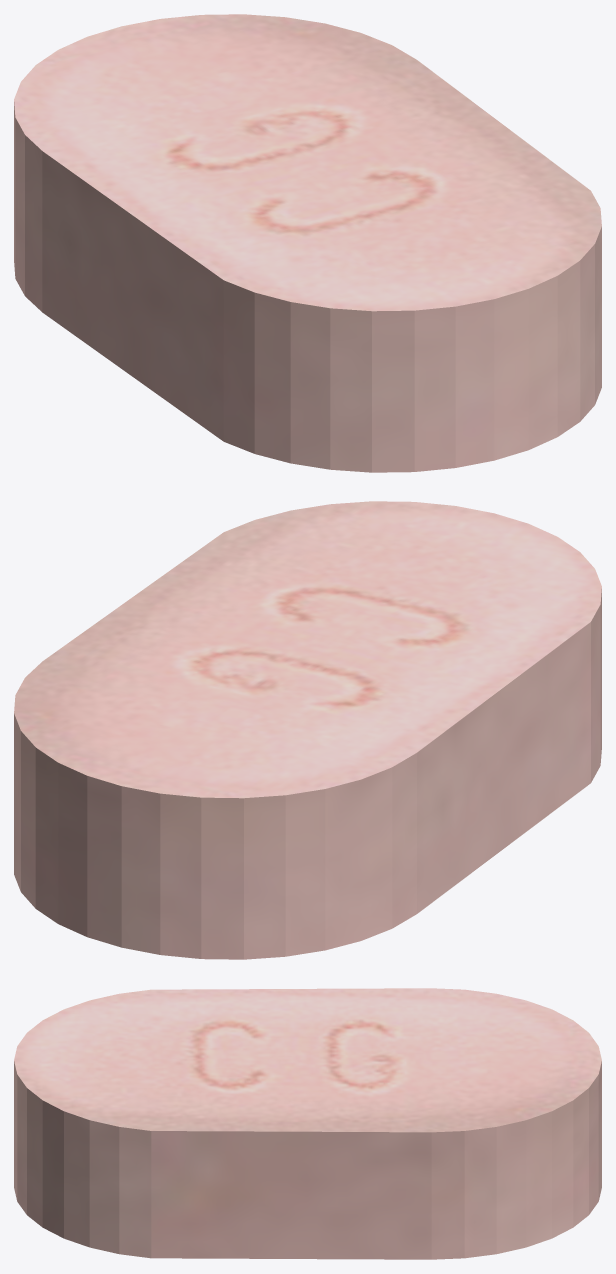
3 views of the same model, one above another, from view 1: azimuth 30°, elevation 25°; view 2: azimuth 150°, elevation 25°; view 3: azimuth 270°, elevation 25° (orthographic). The views are drawn at different scales.
Visible parts, largest first — view 1: 圓柱體; view 2: 圓柱體; view 3: 圓柱體.
Part boxes in pixels (x1,y1,x2,y2): 圓柱體: (14, 14, 601, 472); 圓柱體: (14, 501, 601, 959); 圓柱體: (14, 988, 601, 1259).
Size of the model in its own units: 1.7 by 0.7007 by 2.93.
1 material, 1 textured.
